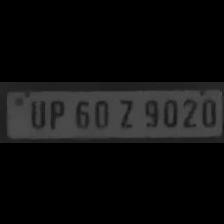0: (90, 96, 112, 128), (198, 93, 218, 126), (159, 95, 179, 127)
2: (178, 94, 198, 128)
6: (69, 96, 91, 130)
9: (138, 94, 160, 128)
P: (45, 96, 67, 130)
U: (25, 96, 47, 128)
Z: (113, 95, 137, 129)
